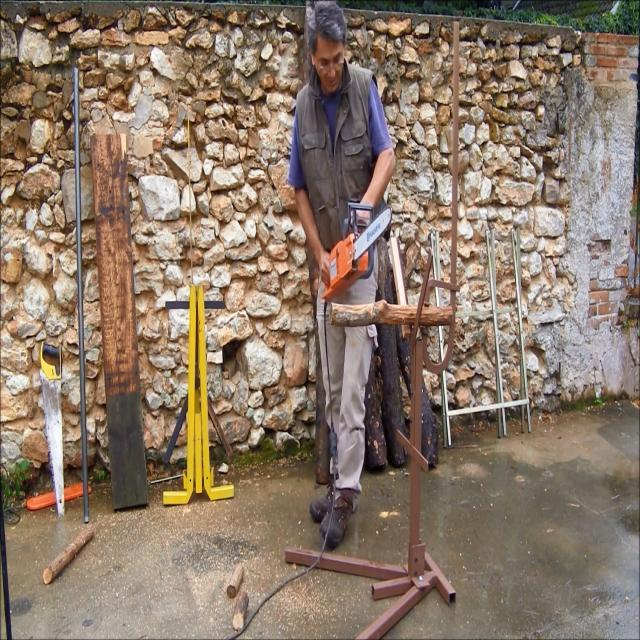Chainsaw: (302, 190, 404, 330)
